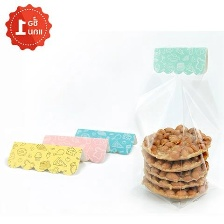snack: (129, 37, 224, 213)
